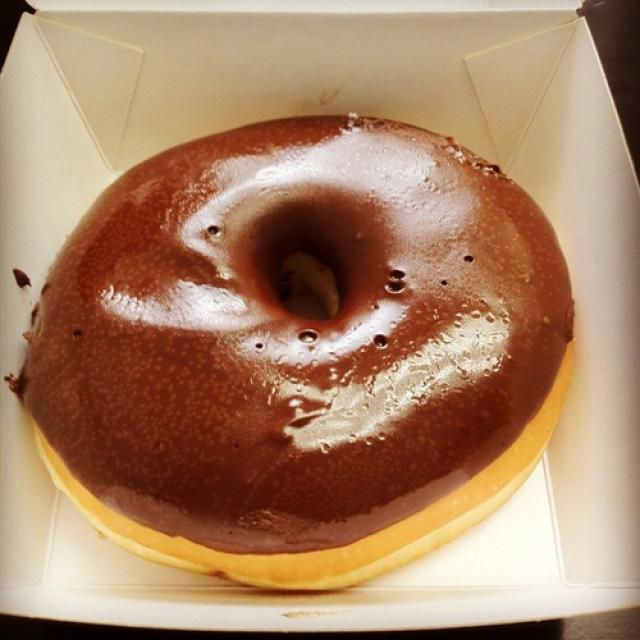炸货点心: (34, 104, 592, 572)
